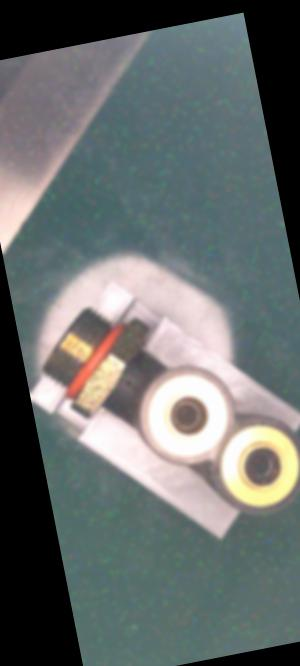craze: (120, 372, 140, 395)
